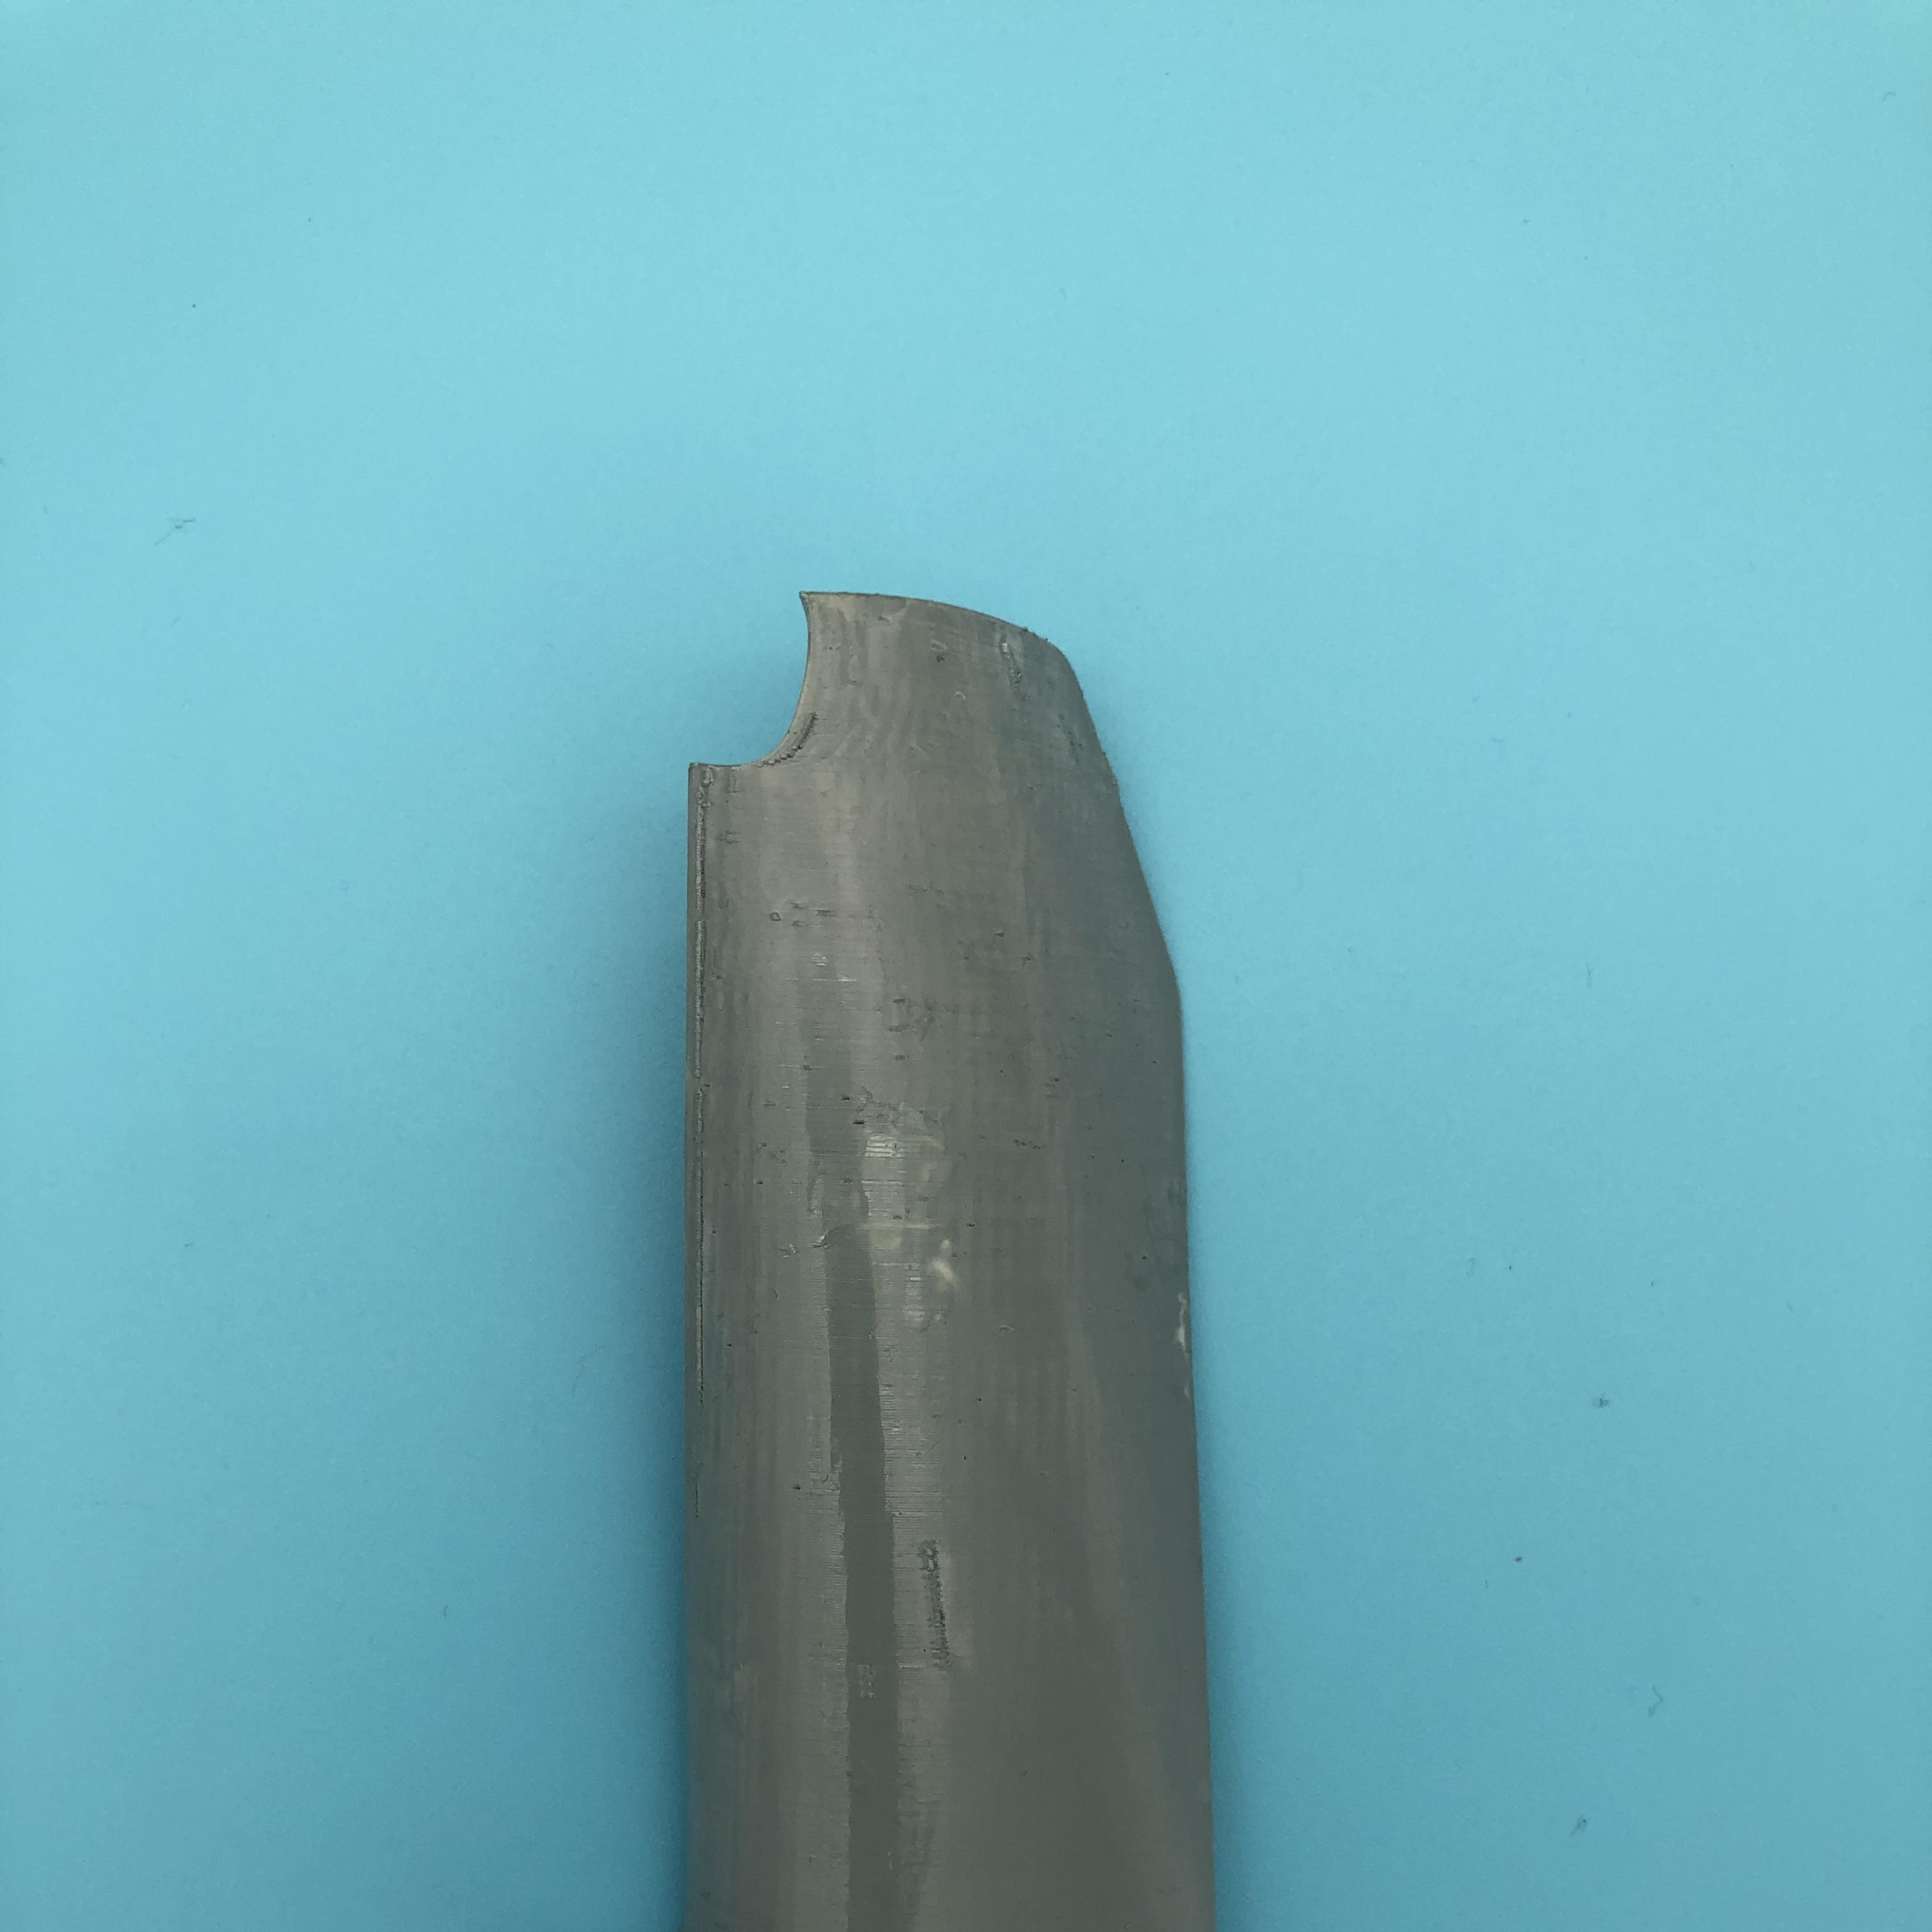fracture: (692, 594, 833, 786)
